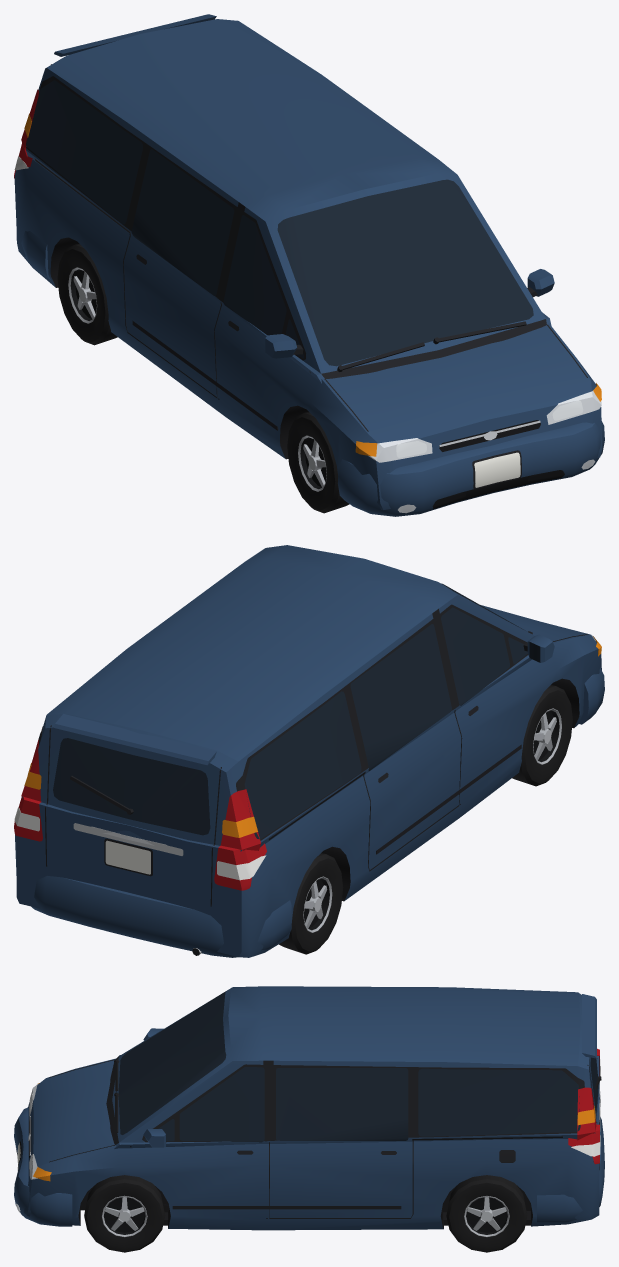
The model's file is traffic_minivan.glb.
The picture shows the model from 3 angles, top to bottom: view 1: azimuth 30°, elevation 25°; view 2: azimuth 150°, elevation 25°; view 3: azimuth 270°, elevation 25°; orthographic projection. The views are drawn at different scales.
Parts seen in each view (by area): view 1: body, wheel_FR, wheel_RR; view 2: body, wheel_RR, wheel_FR; view 3: body, wheel_RL, wheel_FL.
Part boxes in pixels (left/top/right/bottom): body: left=14, top=14, right=604, bottom=516; wheel_FR: left=287, top=412, right=349, bottom=513; wheel_RR: left=57, top=244, right=117, bottom=345; body: left=14, top=545, right=604, bottom=957; wheel_RR: left=279, top=853, right=343, bottom=954; wheel_FR: left=512, top=685, right=572, bottom=786; body: left=14, top=986, right=604, bottom=1230; wheel_RL: left=446, top=1175, right=527, bottom=1252; wheel_FL: left=84, top=1175, right=165, bottom=1252.
Size of the model in its own units: 2.04 by 1.71 by 4.73.
